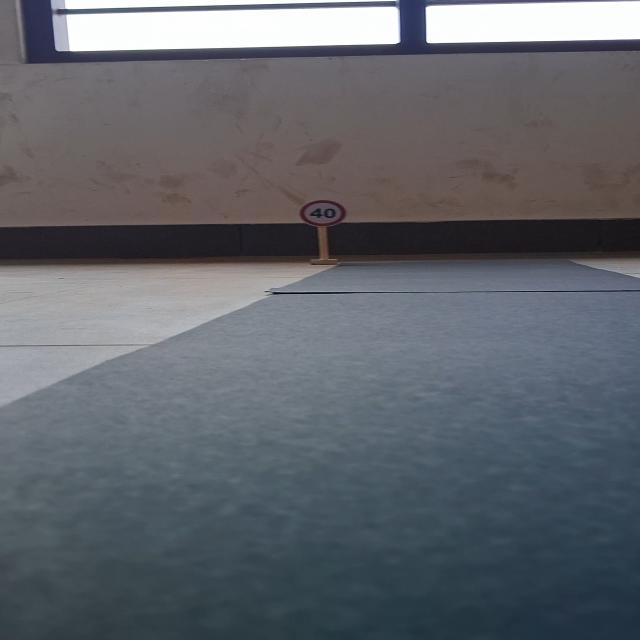Speed40: (291, 196, 356, 230)
